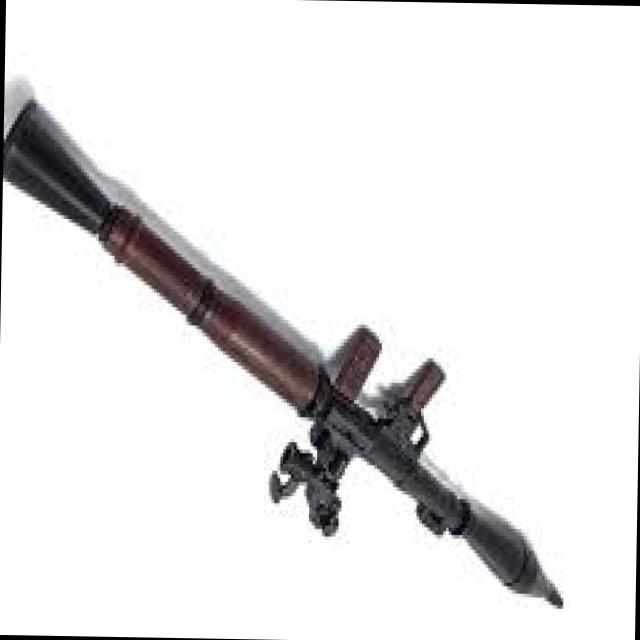Gun: (53, 96, 640, 640)
